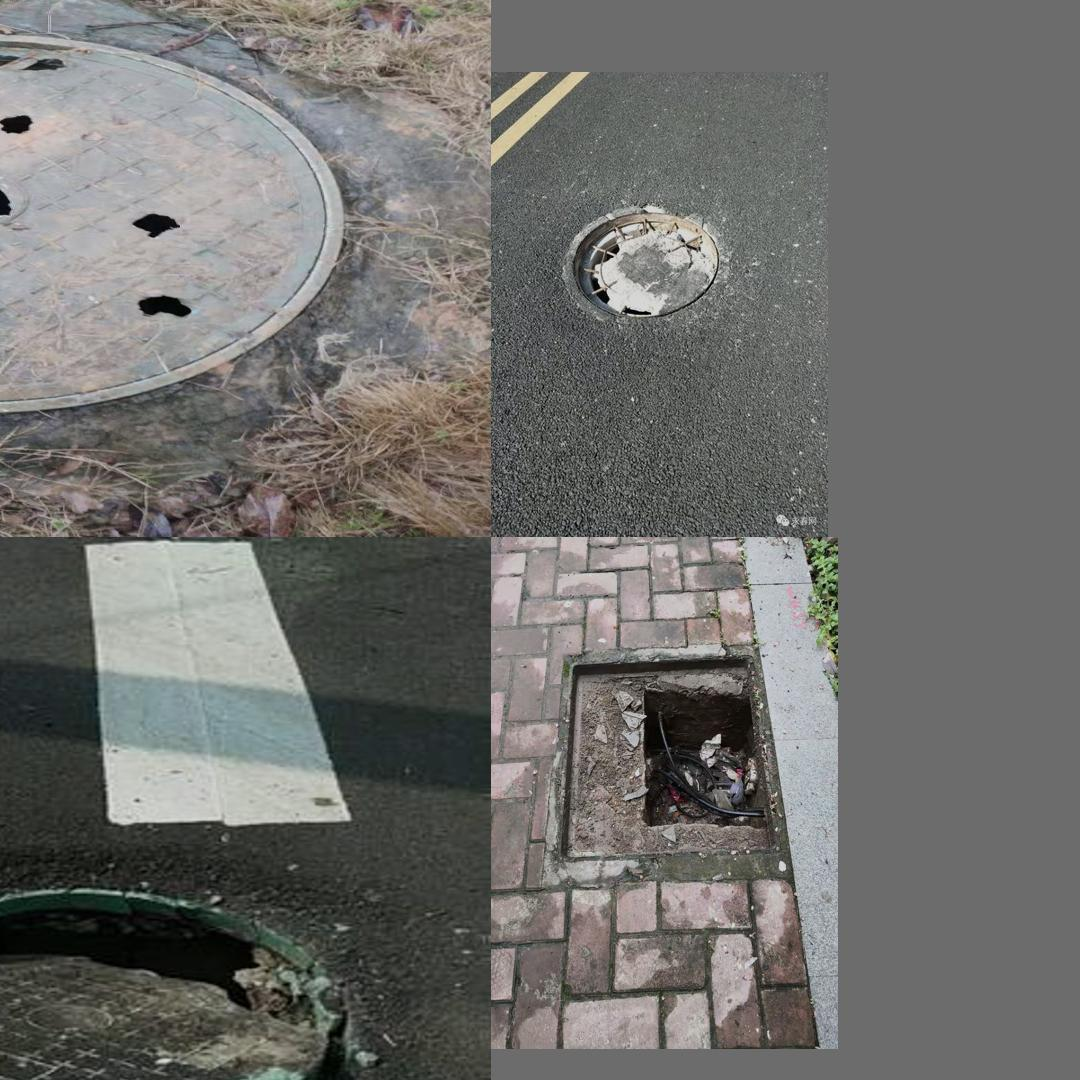broke: (0, 32, 344, 414), (0, 840, 463, 1080), (554, 652, 785, 860), (558, 194, 729, 335)
